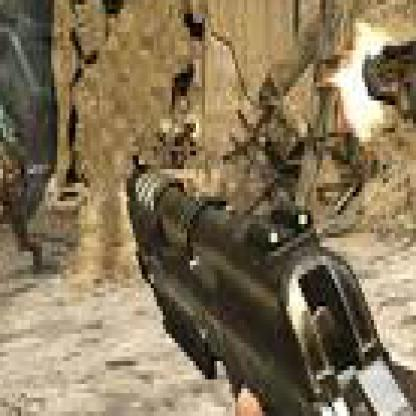gun: (115, 146, 413, 412), (368, 5, 413, 128)
